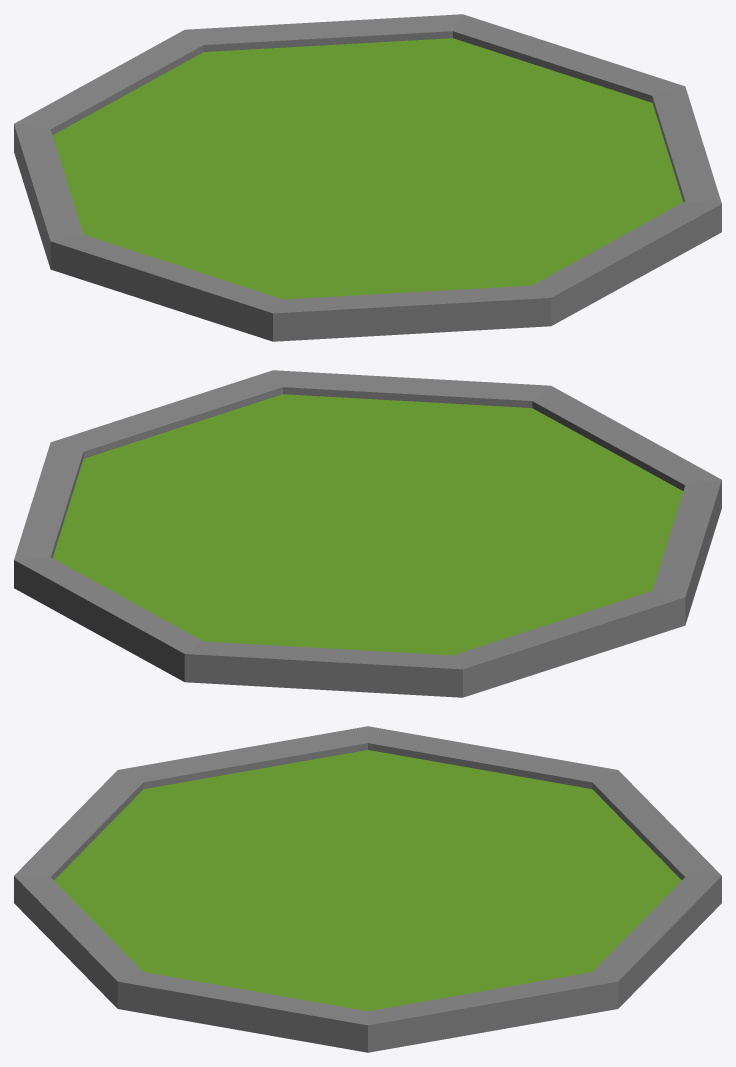
The model's file is Park2.fbx.
3 views of the same model, one above another, from view 1: azimuth 30°, elevation 25°; view 2: azimuth 150°, elevation 25°; view 3: azimuth 270°, elevation 25° (orthographic). The views are drawn at different scales.
Parts seen in each view (by area): view 1: Park2; view 2: Park2; view 3: Park2.
Part boxes in pixels (x1=…): Park2: x1=14, y1=14, x2=721, y2=341; Park2: x1=14, y1=370, x2=721, y2=697; Park2: x1=14, y1=726, x2=721, y2=1052.
Size of the model in its own units: 408 by 17.41 by 408.
